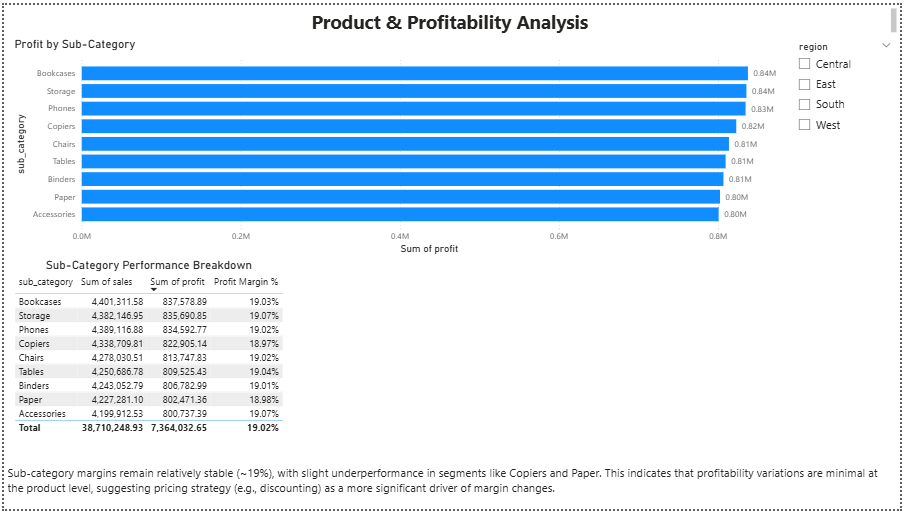

What the dashboard file says about the page in this screenshot:
{"tool":"powerbi","page":{"name":"Product & Profitability Analysis","canvas":[1280,720],"ordinal":1},"visuals":[{"type":"clusteredBarChart","title":"Profit by Sub-Category","fields":{"Category":["public sales_data.sub_category"],"Y":["Sum(public sales_data.profit)"]},"box":[9.8,45.1,1113.7,315.7],"z":0},{"type":"tableEx","title":"Sub-Category Performance Breakdown","fields":{"Values":["public sales_data.sub_category","Sum(public sales_data.sales)","Sum(public sales_data.profit)","public sales_data.Profit Margin %"]},"box":[9.8,360.8,394.1,313.7],"z":1000},{"type":"textbox","box":[0,652.9,1280.4,66.7],"z":1001},{"type":"slicer","fields":{"Values":["public sales_data.region"]},"box":[1123.5,45.1,156.9,235.3],"z":1002},{"type":"textbox","box":[0,0,1280,45],"z":1003}]}

Visuals, with their boxes in screenshot pixels (x1, y1, x2, y2), scaled from the page's 1280x720 canvas onto the 905x514 screenshot:
"Profit by Sub-Category" clusteredBarChart: Rect(7, 32, 794, 258)
"Sub-Category Performance Breakdown" tableEx: Rect(7, 258, 286, 482)
textbox: Rect(0, 466, 904, 513)
slicer - public sales_data.region: Rect(794, 32, 904, 200)
textbox: Rect(0, 0, 904, 32)
